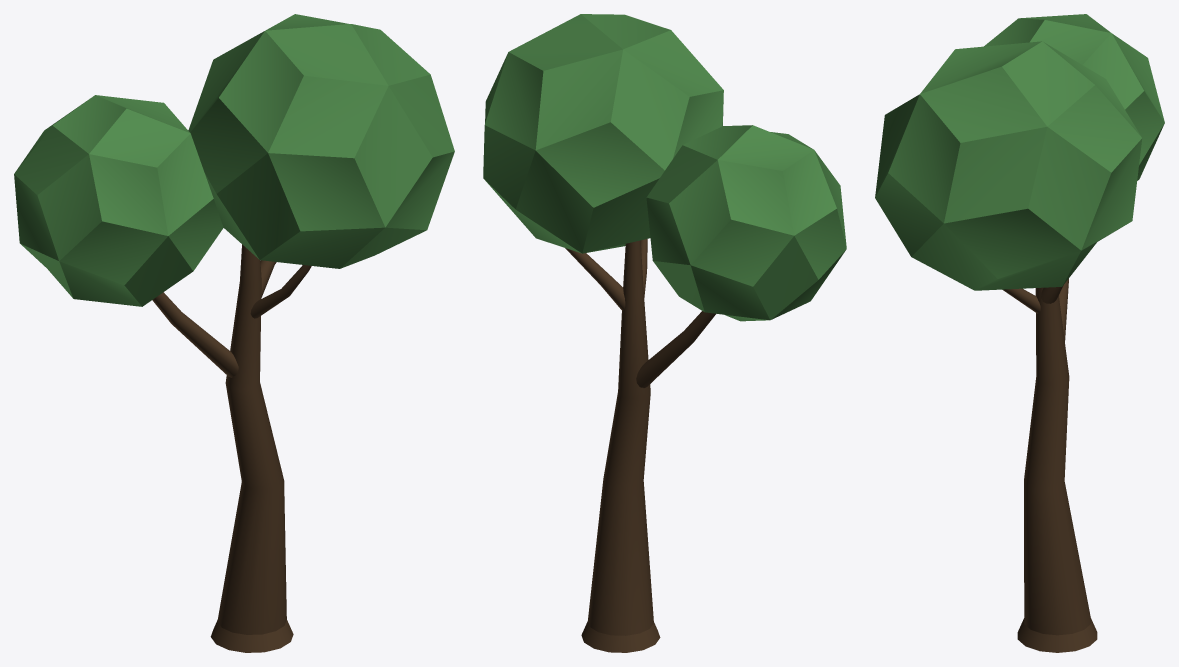
File: Tree01.fbx
The picture shows the model from 3 angles, left to right: view 1: azimuth 30°, elevation 25°; view 2: azimuth 150°, elevation 25°; view 3: azimuth 270°, elevation 25°; orthographic projection. The views are drawn at different scales.
Parts seen in each view (by area): view 1: pPlatonic4, pCylinder5; view 2: pPlatonic4, pCylinder5; view 3: pPlatonic4, pCylinder5.
Part boxes in pixels (bbox=[...]): pPlatonic4: bbox=[14, 14, 454, 306]; pCylinder5: bbox=[152, 244, 311, 652]; pPlatonic4: bbox=[483, 14, 846, 321]; pCylinder5: bbox=[565, 239, 715, 652]; pPlatonic4: bbox=[875, 14, 1164, 290]; pCylinder5: bbox=[1002, 278, 1097, 652].
Bounding box in the file's own units: 1.77 × 2.75 × 1.2.
